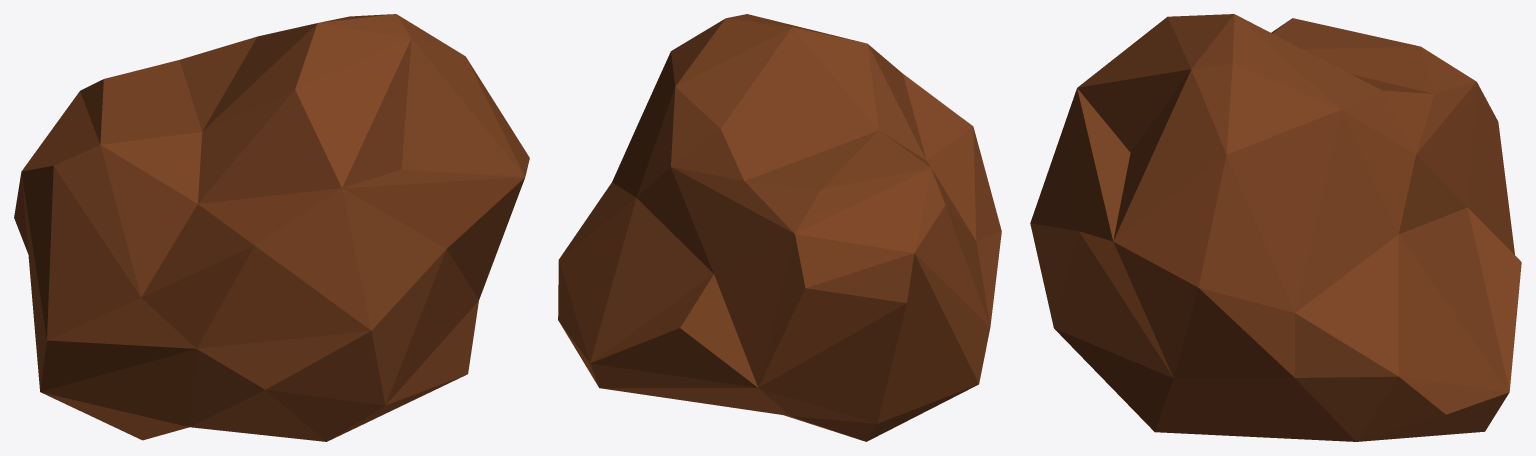
File: Asteroide4.fbx
3 views of the same model, side by side, from view 1: azimuth 30°, elevation 25°; view 2: azimuth 150°, elevation 25°; view 3: azimuth 270°, elevation 25° (orthographic). The views are drawn at different scales.
Parts seen in each view (by area): view 1: Asteroide4; view 2: Asteroide4; view 3: Asteroide4.
Boxes of the visible parts, x1=… form: Asteroide4: x1=14, y1=14, x2=529, y2=441; Asteroide4: x1=558, y1=14, x2=1001, y2=441; Asteroide4: x1=1030, y1=14, x2=1521, y2=441.
Bounding box in the file's own units: 1.47 × 1.26 × 1.36.
